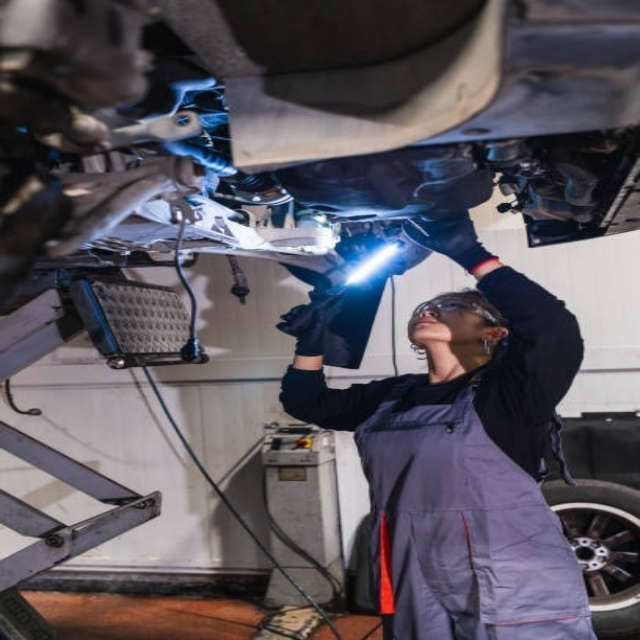Gafas: (411, 299, 501, 325)
Guantes: (408, 210, 495, 270), (289, 295, 335, 358)
Sin_mascara: (408, 317, 450, 338)
